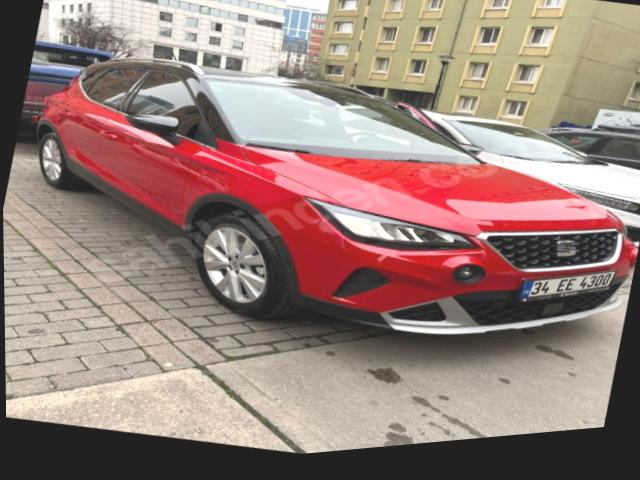plaka: (517, 272, 613, 300)
